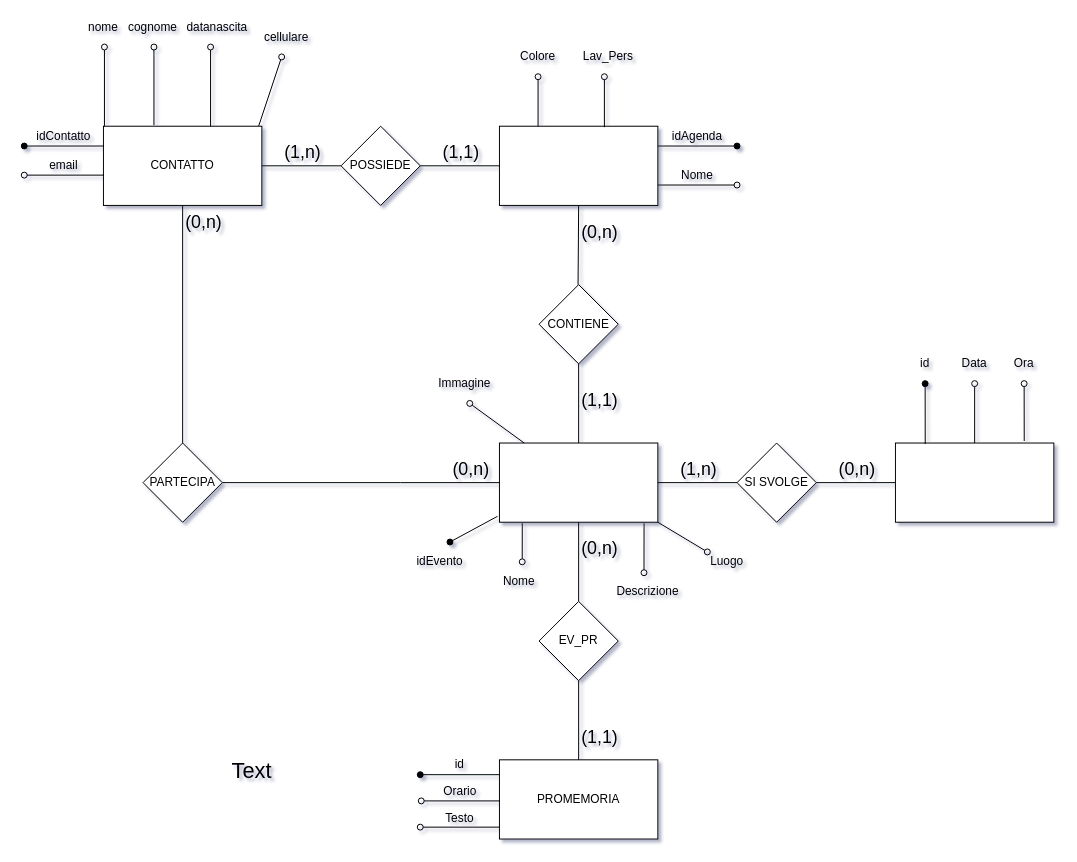
Some shapes in this 1077 by 862 pixel diagram are drawn without their labels. Each missing label, with the box of its shape:
AGENDA: (498, 125, 658, 205)
DATAORA: (894, 442, 1054, 522)
EVENTO: (498, 442, 658, 522)
